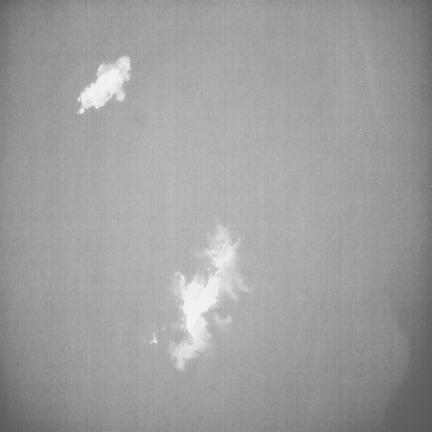flukeprints: (170, 224, 248, 370), (78, 56, 130, 114)
